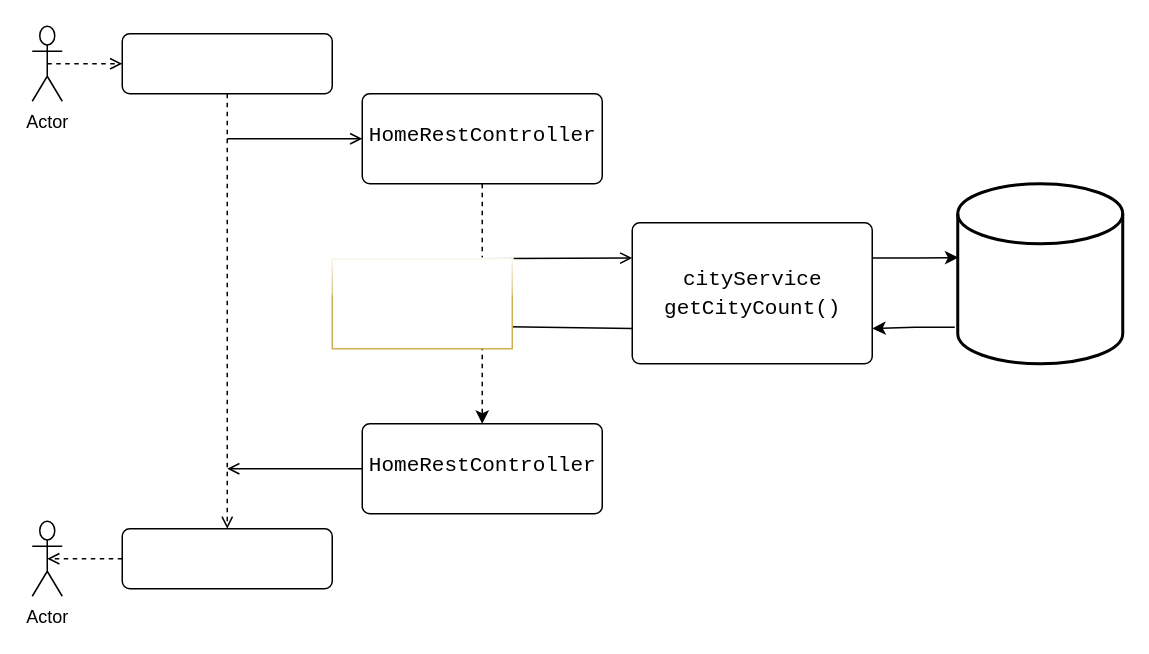
Some shapes in this 1149 by 654 pixel diagram are drawn without their labels. The centre of each missing label's shape, as x and y in pixels:
Cities table: (1040,273)
GET request: (226,63)
HTML response: (226,558)
